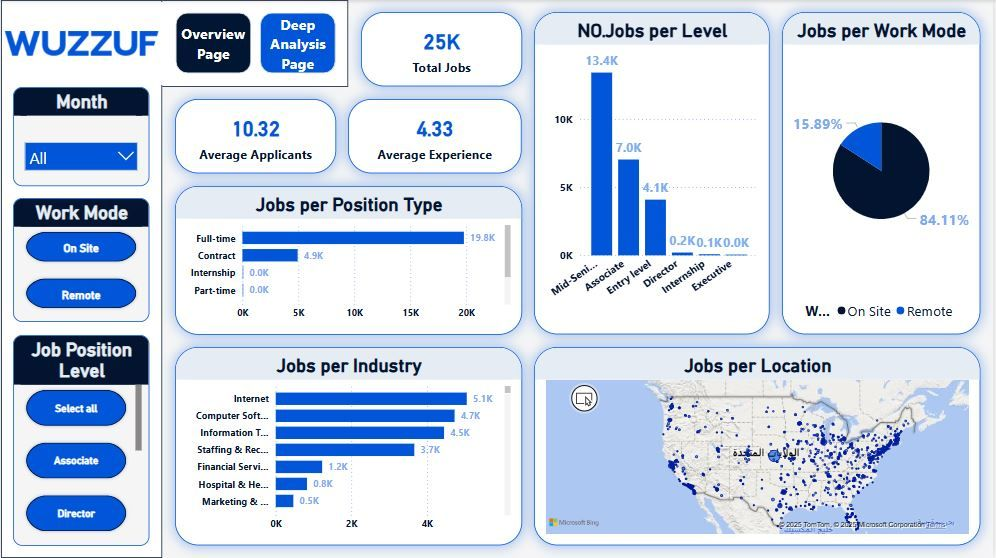

The page's visual inventory and layout, read from the dashboard file:
{"tool":"powerbi","page":{"name":"Overview Page","canvas":[1280,720],"ordinal":0},"visuals":[{"type":"shape","box":[0,0,448,112],"z":1500},{"type":"shape","box":[0,0,208,720],"z":1750},{"type":"shape","box":[2,3,208,107],"z":1875},{"type":"card","fields":{"Values":["Wuzzuf_Jobs_Posting.Total Jobs"]},"box":[464,16,208,96],"z":2000},{"type":"card","fields":{"Values":["Wuzzuf_Jobs_Posting.Average Experience"]},"box":[448,128,224,96],"z":3000},{"type":"card","fields":{"Values":["Wuzzuf_Jobs_Posting.Average Applicants"]},"box":[224,128,208,96],"z":4000},{"type":"pieChart","title":"Jobs per Work Mode","fields":{"Category":["Wuzzuf_Jobs_Posting.Work Mode"],"Y":["Wuzzuf_Jobs_Posting.Total Jobs"]},"box":[1008,16,256,416],"z":5000},{"type":"barChart","title":"Jobs per Position Type","fields":{"Category":["Wuzzuf_Jobs_Posting.Job Position Type"],"Y":["CountNonNull(Wuzzuf_Jobs_Posting.Job Posting ID)"]},"box":[224,240,448,192],"z":6000},{"type":"barChart","title":"Jobs per Industry","fields":{"Y":["CountNonNull(Wuzzuf_Jobs_Posting.Job Posting ID)"],"Category":["Wuzzuf_Jobs_Posting.Company Industry"]},"box":[224,448,448,256],"z":7000},{"type":"map","title":"Jobs per Location","fields":{"Category":["Wuzzuf_Jobs_Posting.Job Location"],"Size":["Wuzzuf_Jobs_Posting.Total Jobs"]},"box":[688,448,576,256],"z":8000},{"type":"slicer","title":"Month","fields":{"Values":["Calendar.Month Name"]},"box":[16,112,176,128],"z":9000},{"type":"advancedSlicerVisual","fields":{"Values":["Wuzzuf_Jobs_Posting.Work Mode"]},"box":[16,256,176,160],"z":10000},{"type":"advancedSlicerVisual","fields":{"Values":["Wuzzuf_Jobs_Posting.Job Position Level"]},"box":[16,432,176,272],"z":11000},{"type":"image","box":[0,0,208,112],"z":12000},{"type":"columnChart","title":"NO.Jobs per Level","fields":{"Category":["Wuzzuf_Jobs_Posting.Job Position Level"],"Y":["CountNonNull(Wuzzuf_Jobs_Posting.Job Posting ID)"]},"box":[688,16,304,416],"z":13000},{"type":"pageNavigator","title":"Page","box":[224,16,208,80],"z":14000}]}

Visuals, with their boxes in screenshot pixels (x1, y1, x2, y2), scaled from the page's 1280x720 canvas onto the 996x558 screenshot:
shape: left=0, top=0, right=349, bottom=87
shape: left=0, top=0, right=162, bottom=557
shape: left=2, top=2, right=163, bottom=85
card - Wuzzuf_Jobs_Posting.Total Jobs: left=361, top=12, right=523, bottom=87
card - Wuzzuf_Jobs_Posting.Average Experience: left=349, top=99, right=523, bottom=174
card - Wuzzuf_Jobs_Posting.Average Applicants: left=174, top=99, right=336, bottom=174
"Jobs per Work Mode" pieChart: left=784, top=12, right=984, bottom=335
"Jobs per Position Type" barChart: left=174, top=186, right=523, bottom=335
"Jobs per Industry" barChart: left=174, top=347, right=523, bottom=546
"Jobs per Location" map: left=535, top=347, right=984, bottom=546
"Month" slicer: left=12, top=87, right=149, bottom=186
advancedSlicerVisual - Wuzzuf_Jobs_Posting.Work Mode: left=12, top=198, right=149, bottom=322
advancedSlicerVisual - Wuzzuf_Jobs_Posting.Job Position Level: left=12, top=335, right=149, bottom=546
image: left=0, top=0, right=162, bottom=87
"NO.Jobs per Level" columnChart: left=535, top=12, right=772, bottom=335
"Page" pageNavigator: left=174, top=12, right=336, bottom=74
